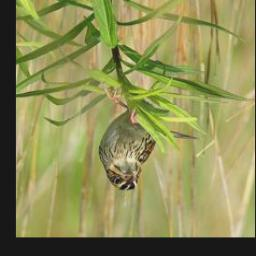Sparrow: (97, 79, 200, 194)
